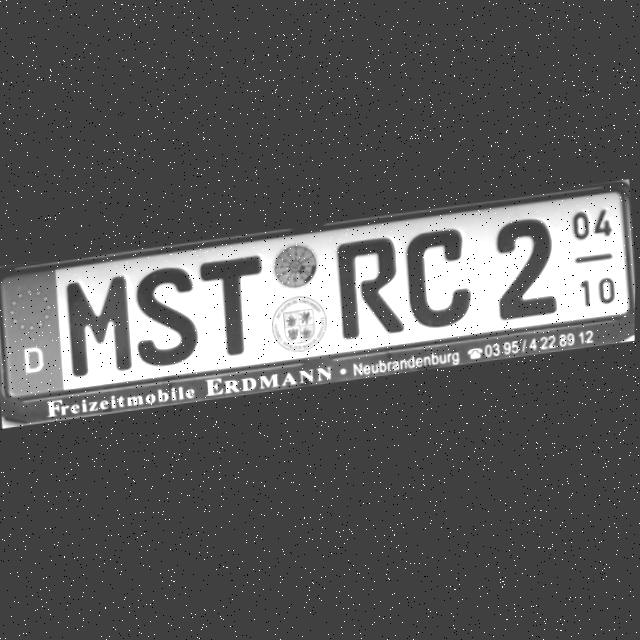license-plates: (0, 191, 630, 399)
